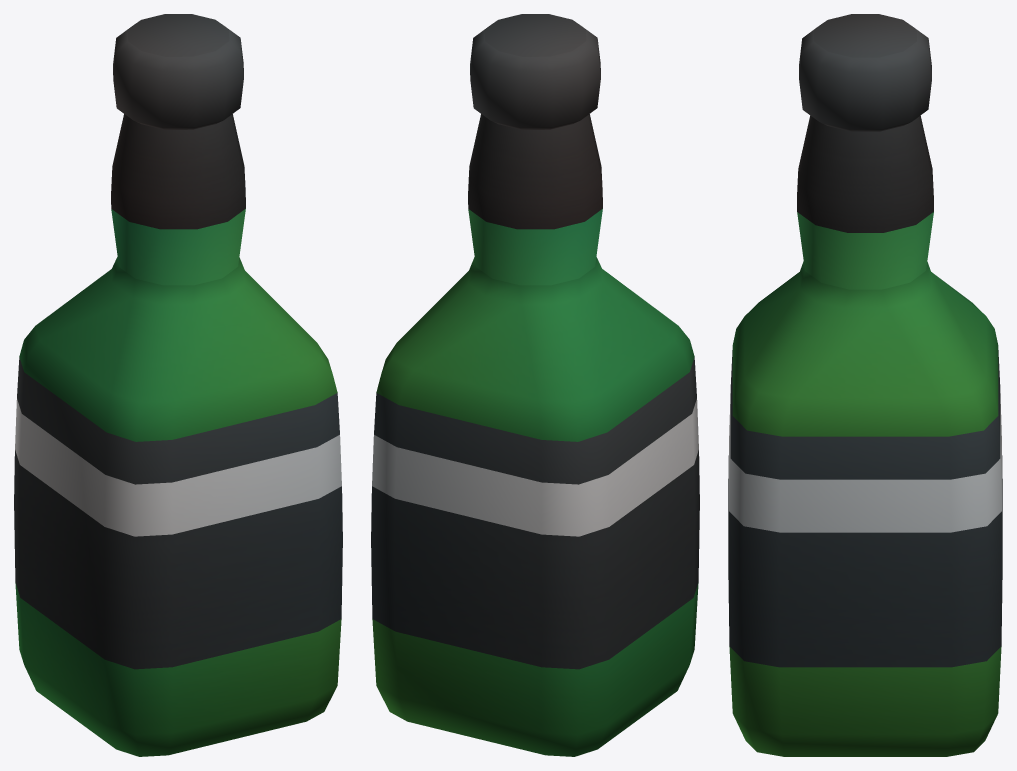
The model's file is bottle_015.fbx.
3 renders of one model, left to right at view 1: azimuth 30°, elevation 25°; view 2: azimuth 150°, elevation 25°; view 3: azimuth 270°, elevation 25°, orthographic.
Visible parts, largest first — view 1: bottle_015; view 2: bottle_015; view 3: bottle_015.
Part boxes in pixels (<box>): bottle_015: <box>14,14,342,756</box>; bottle_015: <box>371,14,699,756</box>; bottle_015: <box>728,14,1002,756</box>.
Size of the model in its own units: 10.29 by 10.29 by 28.24.
